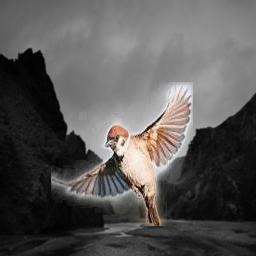Sparrow: (51, 82, 193, 226)
